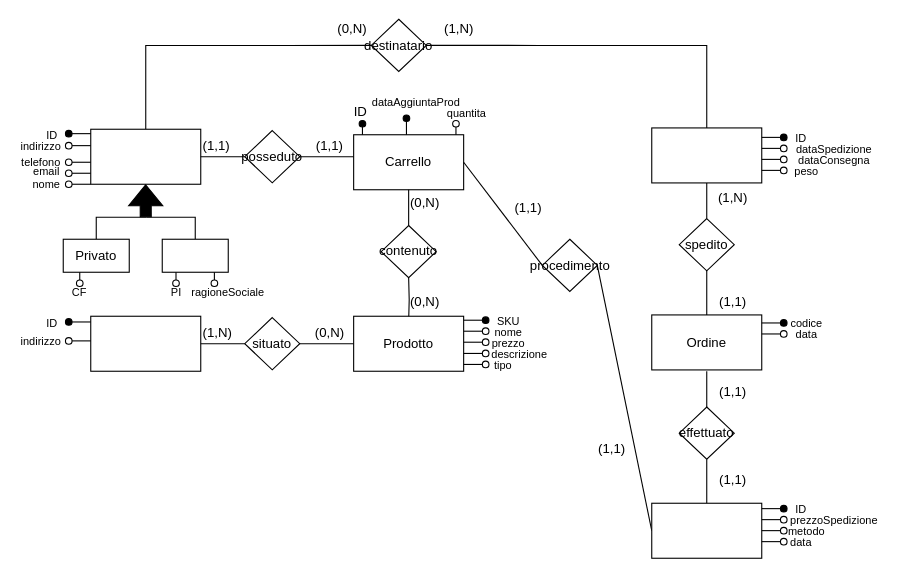
The diagram is 897 pixels wide and 578 high, and some of its shapes have lost their labels. Each missing label, with the centre of its shape:
Azienda: point 194,255
Magazzino: point 145,343
Pagamento: point 706,530
Spedizione: point 706,155
Utente: point 145,156
